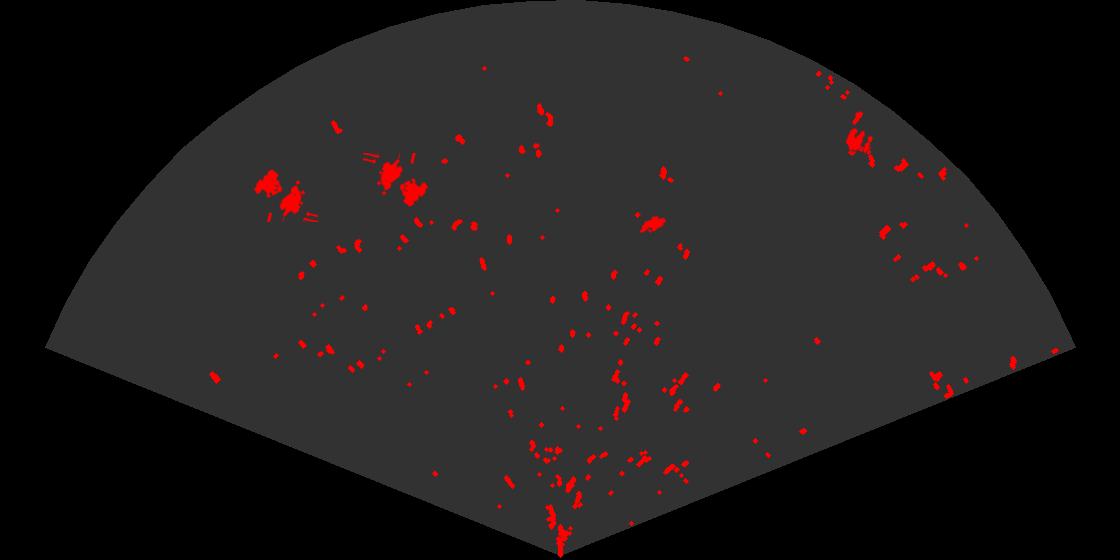AUV: (635, 208, 668, 235)
ball: (844, 126, 874, 154)
cage: (363, 153, 430, 208), (252, 168, 318, 222)
